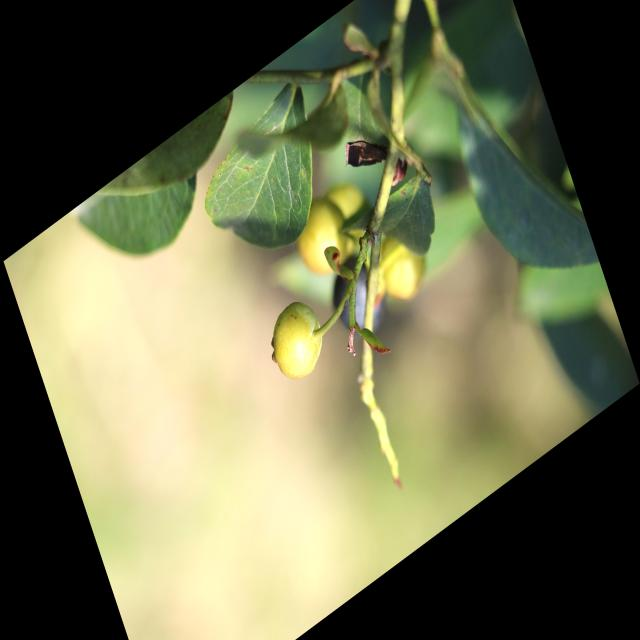blueberry: (318, 231, 403, 365)
blueberry-unripe: (260, 288, 332, 397), (287, 188, 359, 293), (372, 222, 432, 311)
